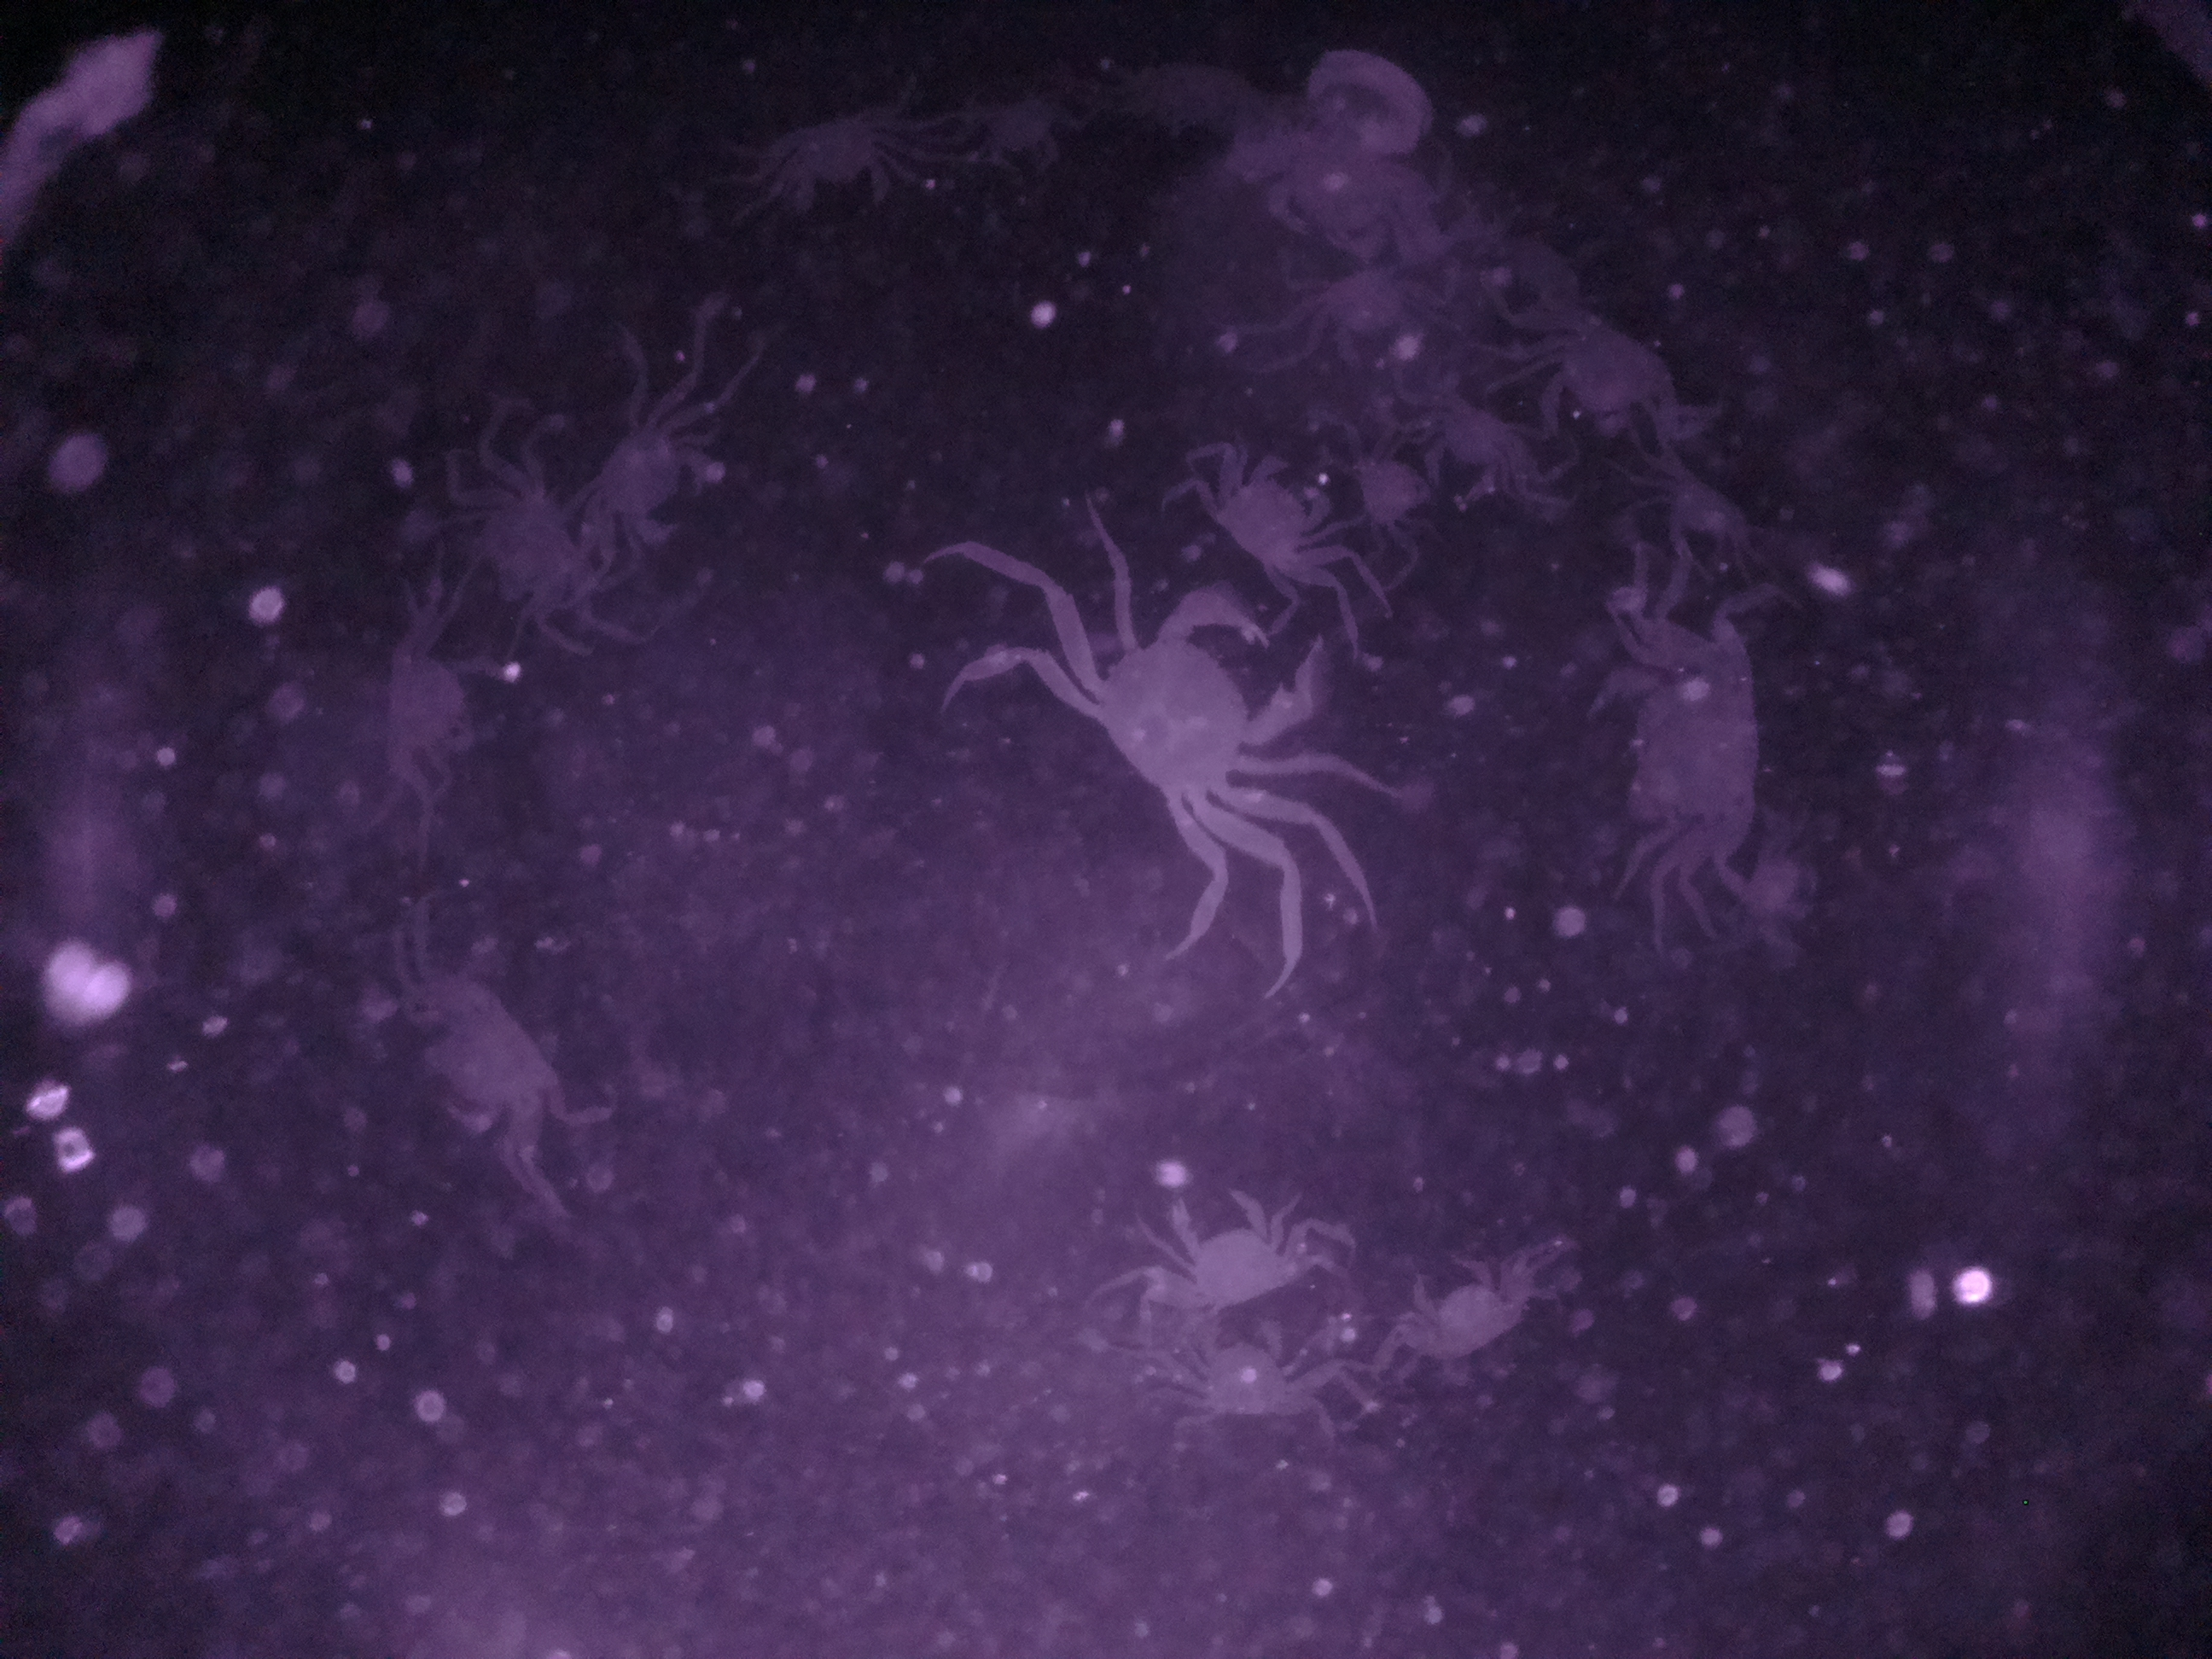Crab: (1043, 577, 1336, 873), (1581, 615, 1799, 871), (394, 941, 577, 1178), (1517, 291, 1714, 458), (1127, 1175, 1317, 1344), (359, 606, 496, 817), (1186, 436, 1352, 599), (737, 94, 942, 223), (577, 382, 712, 575), (1150, 1309, 1315, 1450), (1392, 1241, 1540, 1394)
